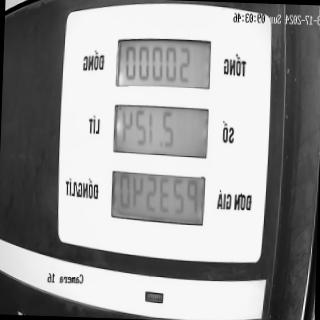screen: (109, 32, 214, 232)
